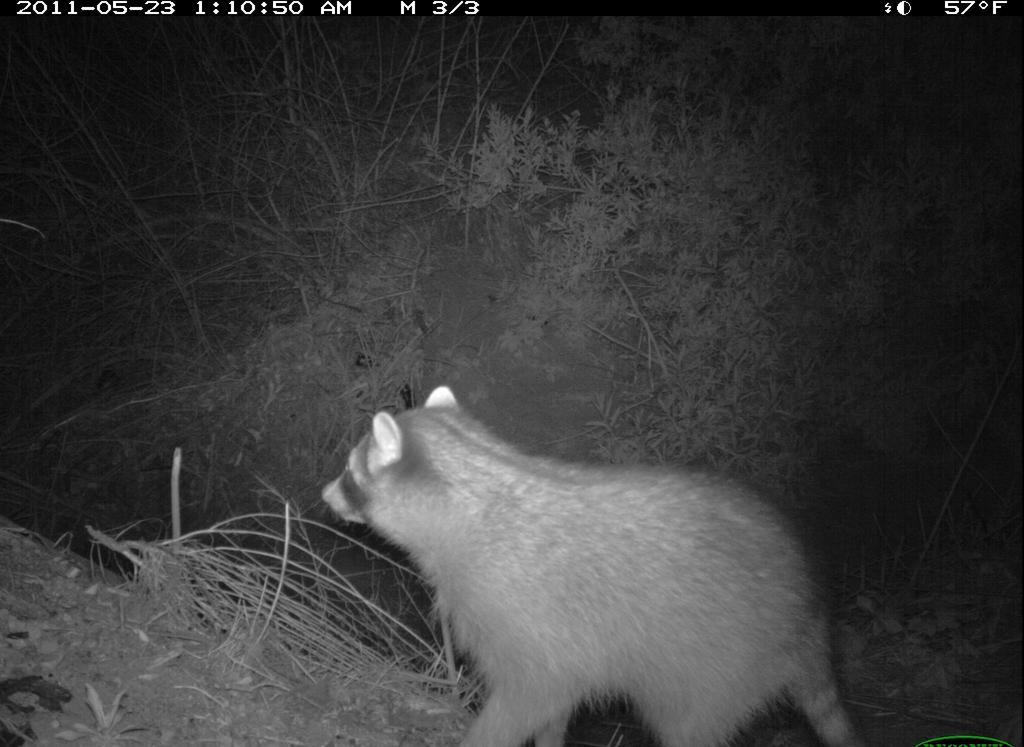raccoon: (312, 378, 871, 743)
